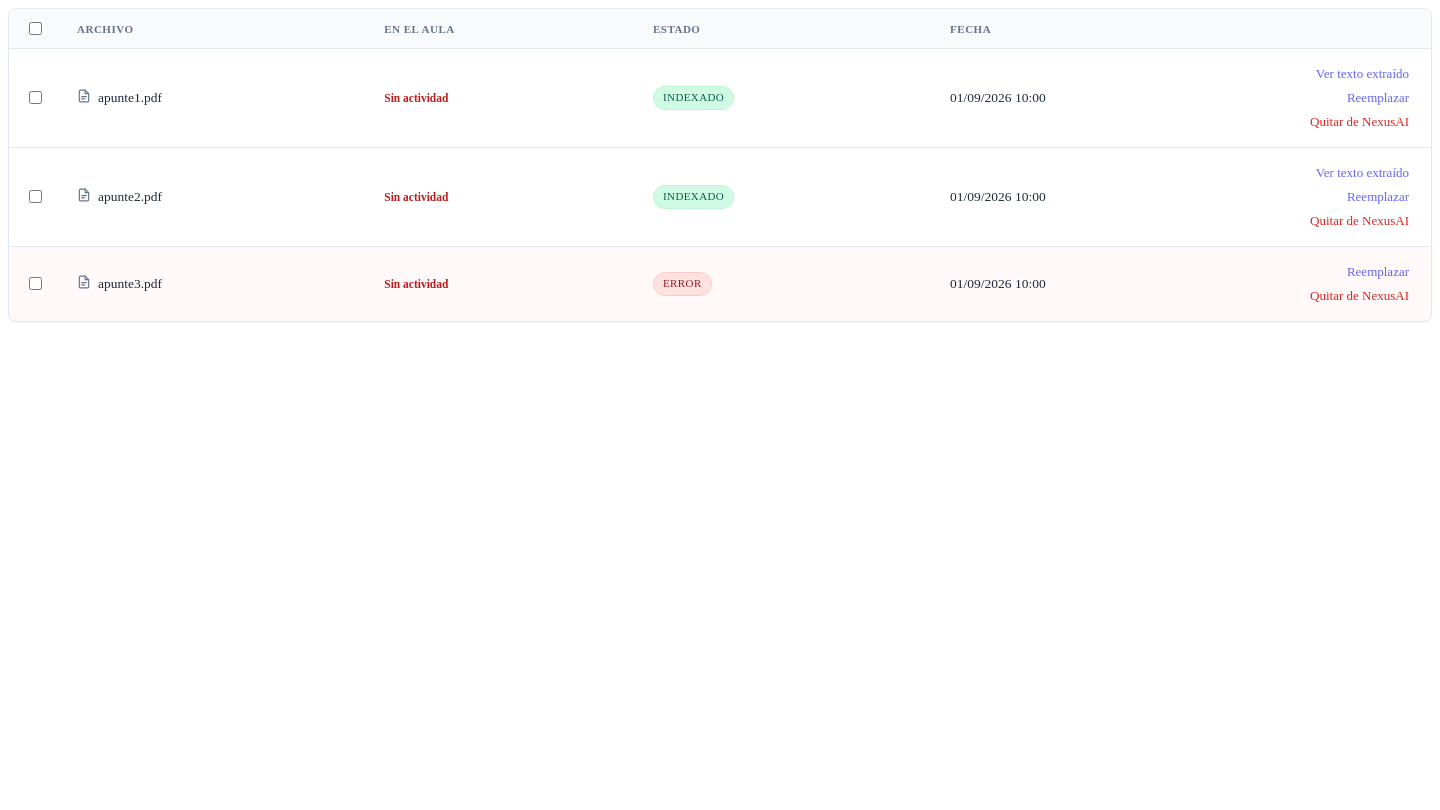
Test: DocumentsTable — reindexar en lote › reindexes only the selected documents and reflects the returned status in the table
The width and height of the screenshot is (1440, 810).
Click the checkbox named "Seleccionar apunte3.pdf" at x=36, y=284, box 29,277 -> 42,290
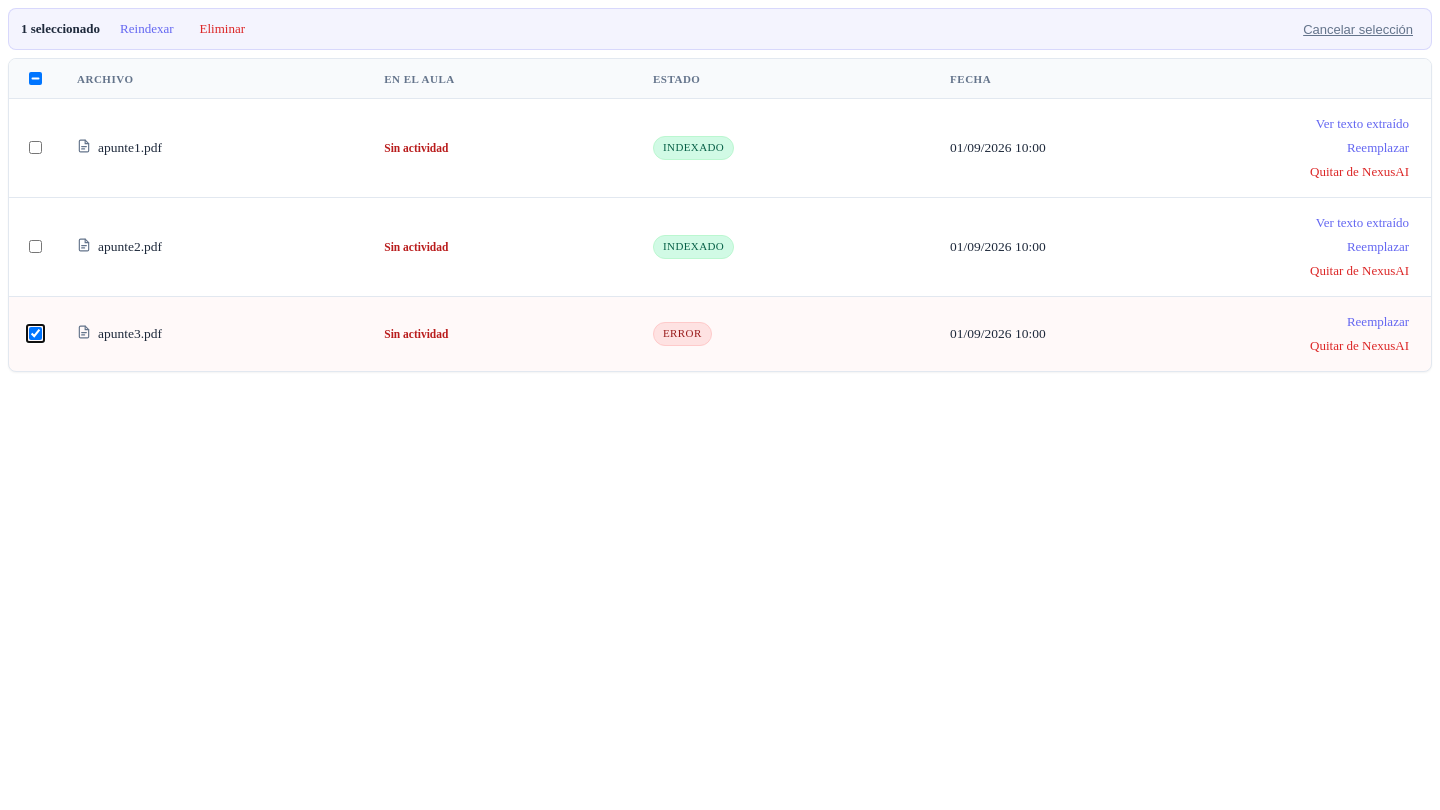
Click the button "Reindexar" at x=147, y=29, box 114,17 -> 180,41
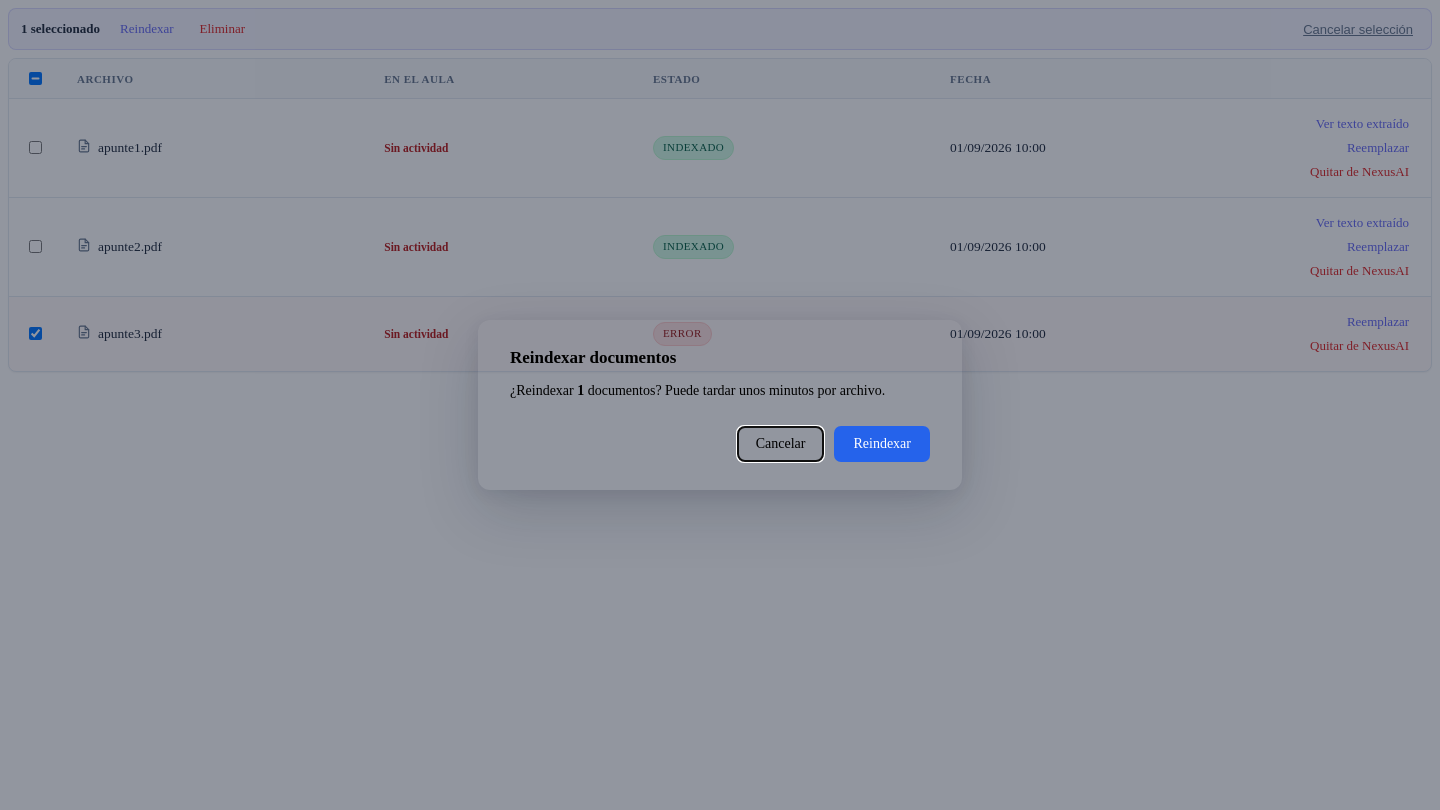
Expected: the text "¿Reindexar" is shown, 510,383 -> 577,398
Click the button "Reindexar" at x=882, y=444, box 834,426 -> 930,462
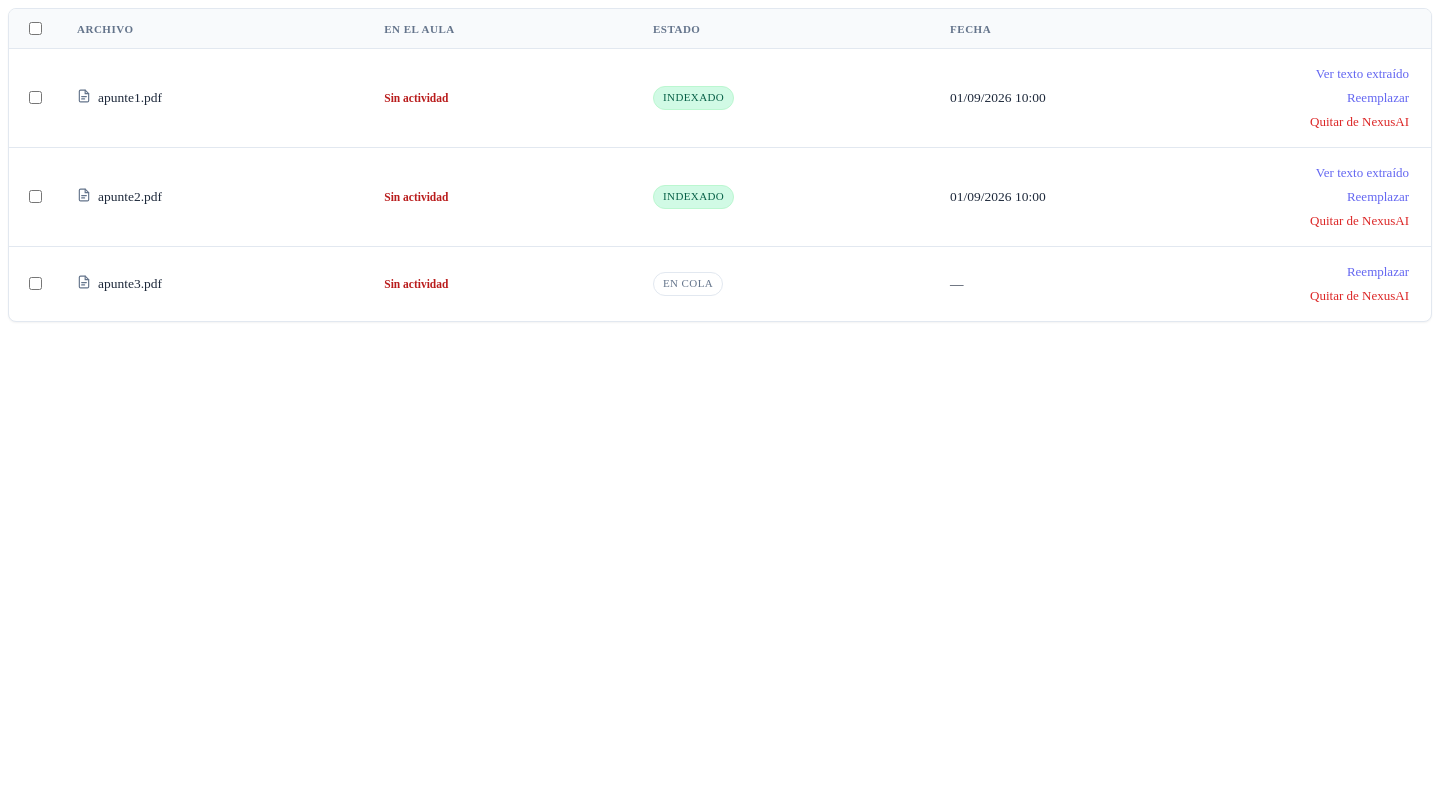
Expected: the text "apunte3.pdf" is shown, 77,275 -> 162,291
Expected: the text "En cola" is shown, 653,272 -> 723,296
